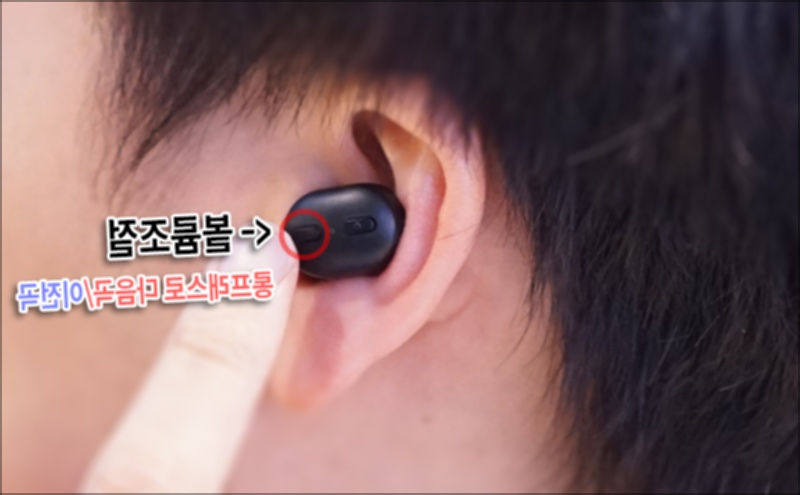earphone: (262, 70, 490, 413)
